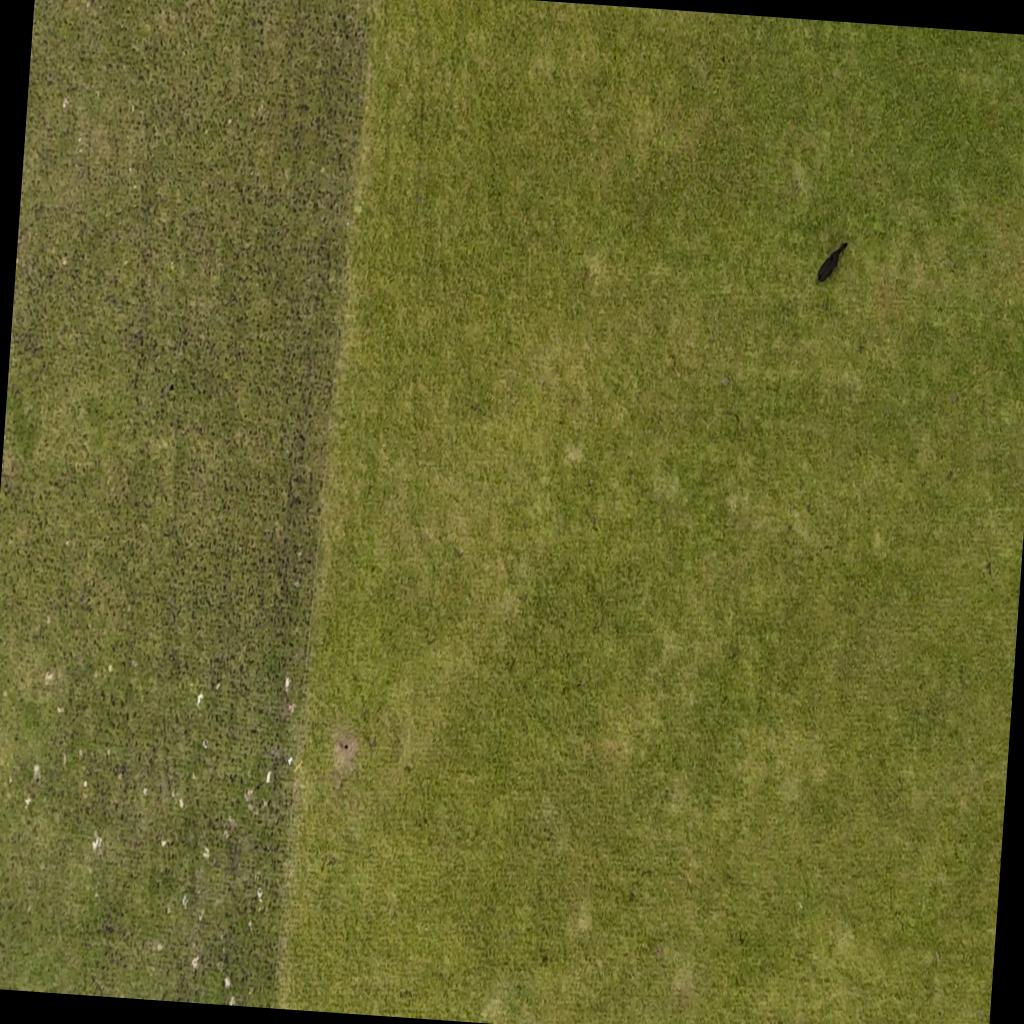cow: (815, 236, 849, 286)
